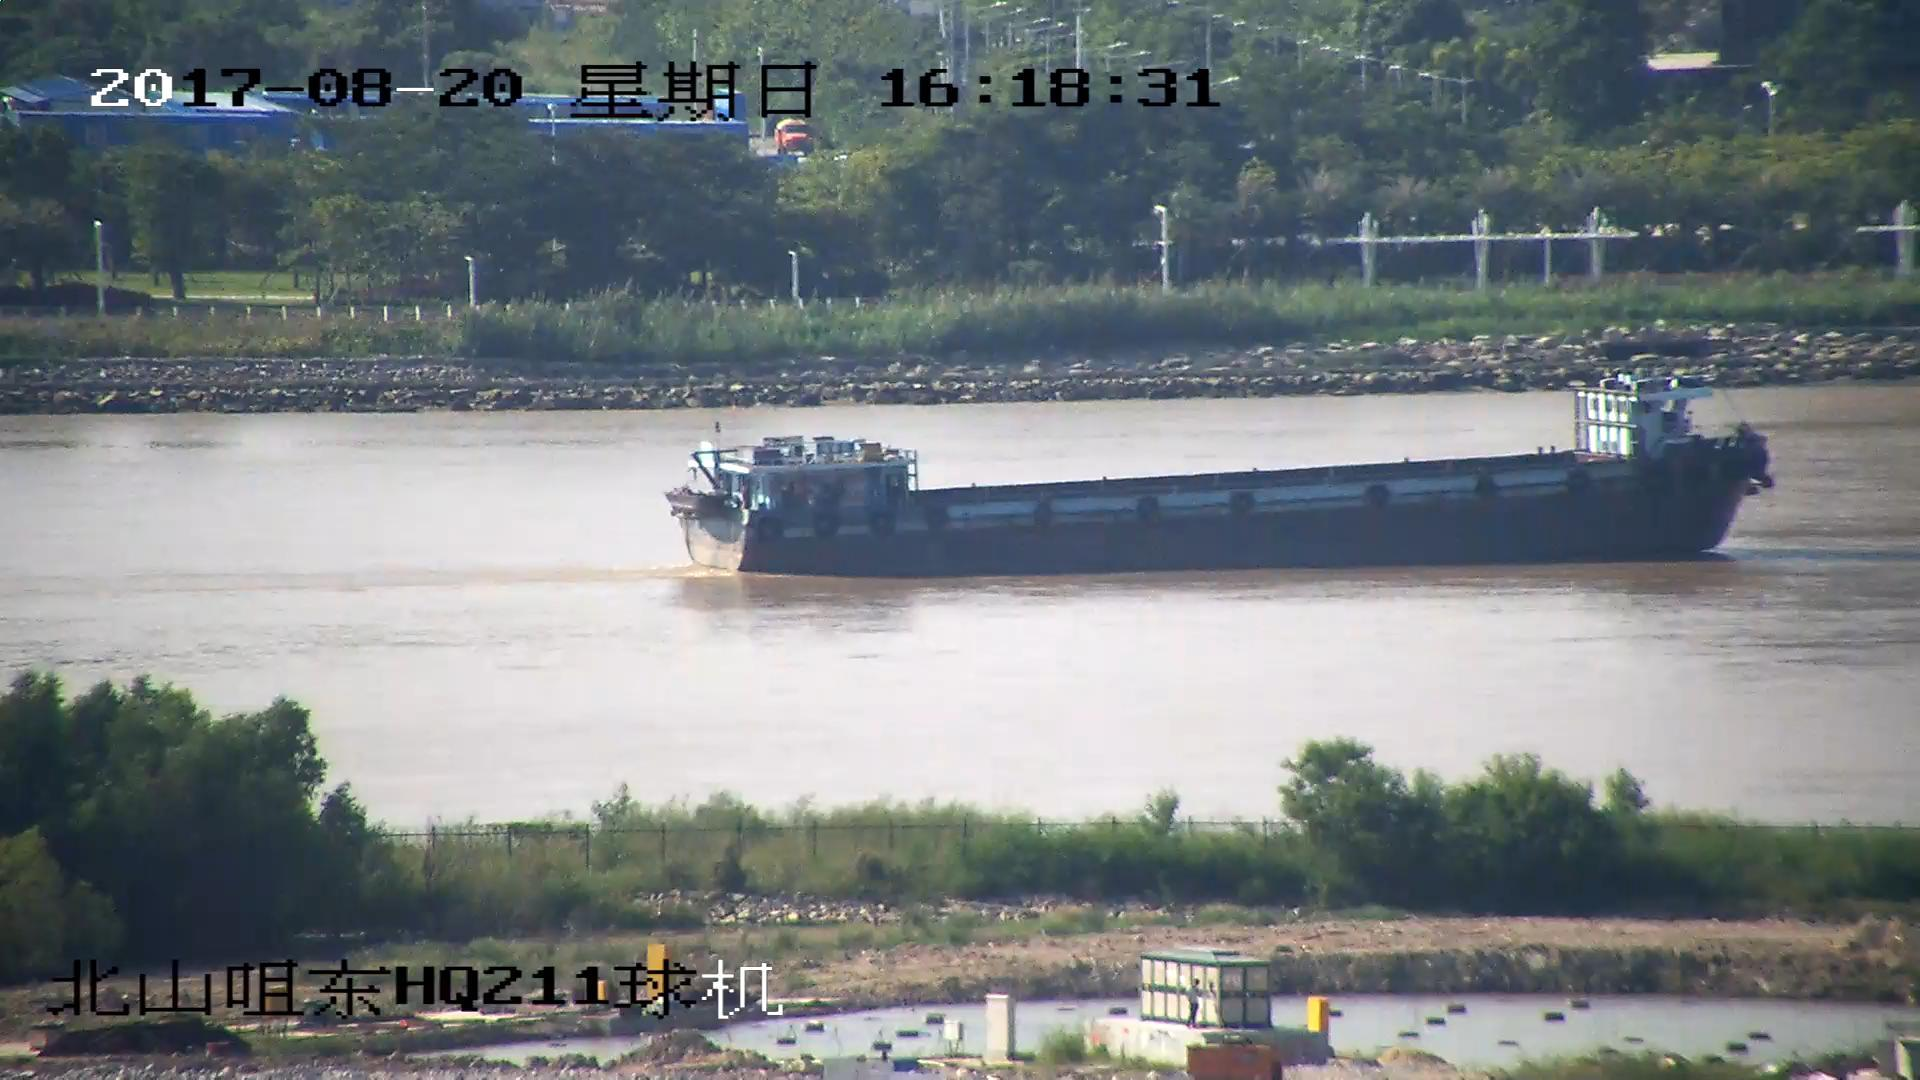Ship: (669, 373, 1776, 568)
